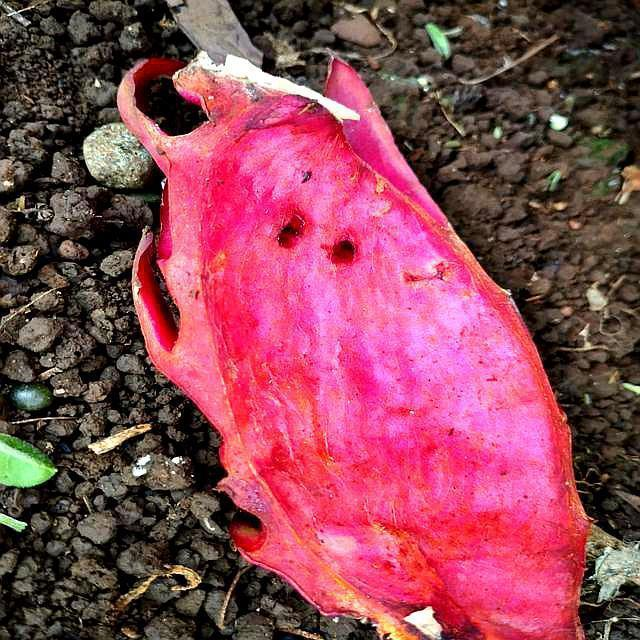Biodegradable: (129, 59, 617, 640)
